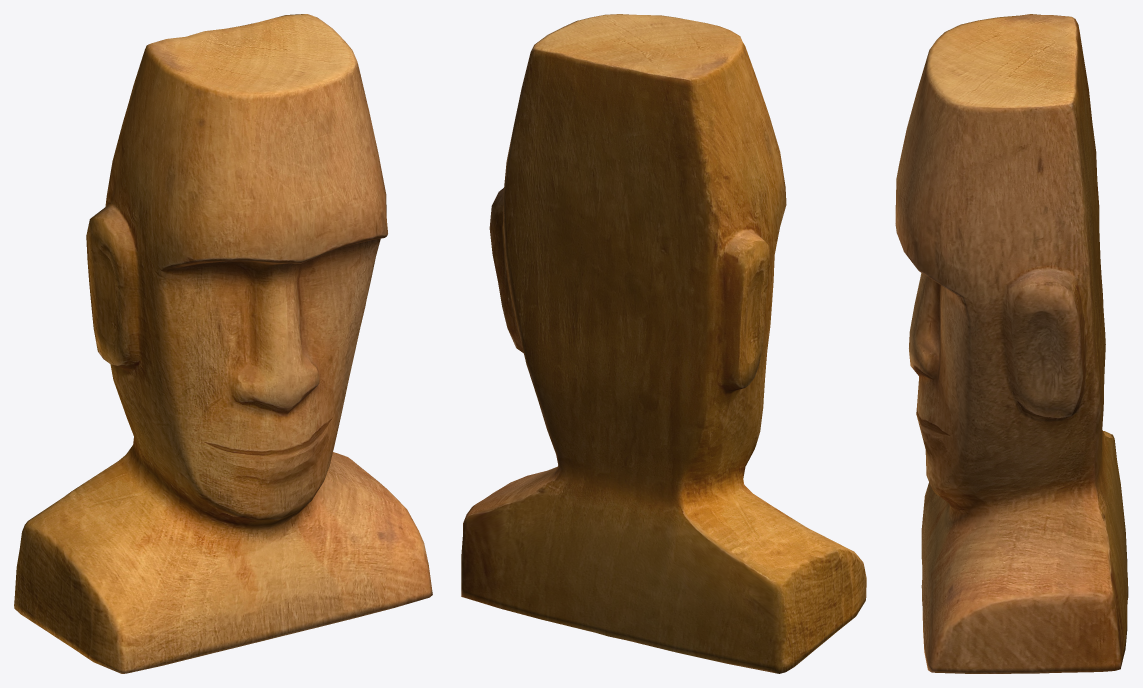
The model's file is Wood_Sculpture_Game_Ready_2K_PBR.glb.
3 views of the same model, side by side, from view 1: azimuth 30°, elevation 25°; view 2: azimuth 150°, elevation 25°; view 3: azimuth 270°, elevation 25° (orthographic).
Visible parts, largest first — view 1: Wooden Sculpture_Wooden Sculpture PBR_0; view 2: Wooden Sculpture_Wooden Sculpture PBR_0; view 3: Wooden Sculpture_Wooden Sculpture PBR_0.
Part boxes in pixels (x1,y1,x2,y2): Wooden Sculpture_Wooden Sculpture PBR_0: (14, 14, 432, 673); Wooden Sculpture_Wooden Sculpture PBR_0: (461, 14, 866, 673); Wooden Sculpture_Wooden Sculpture PBR_0: (895, 14, 1128, 673).
Bounding box in the file's own units: 0.1916 × 0.3048 × 0.1165.
Materials: 1 (1 with a texture image).
